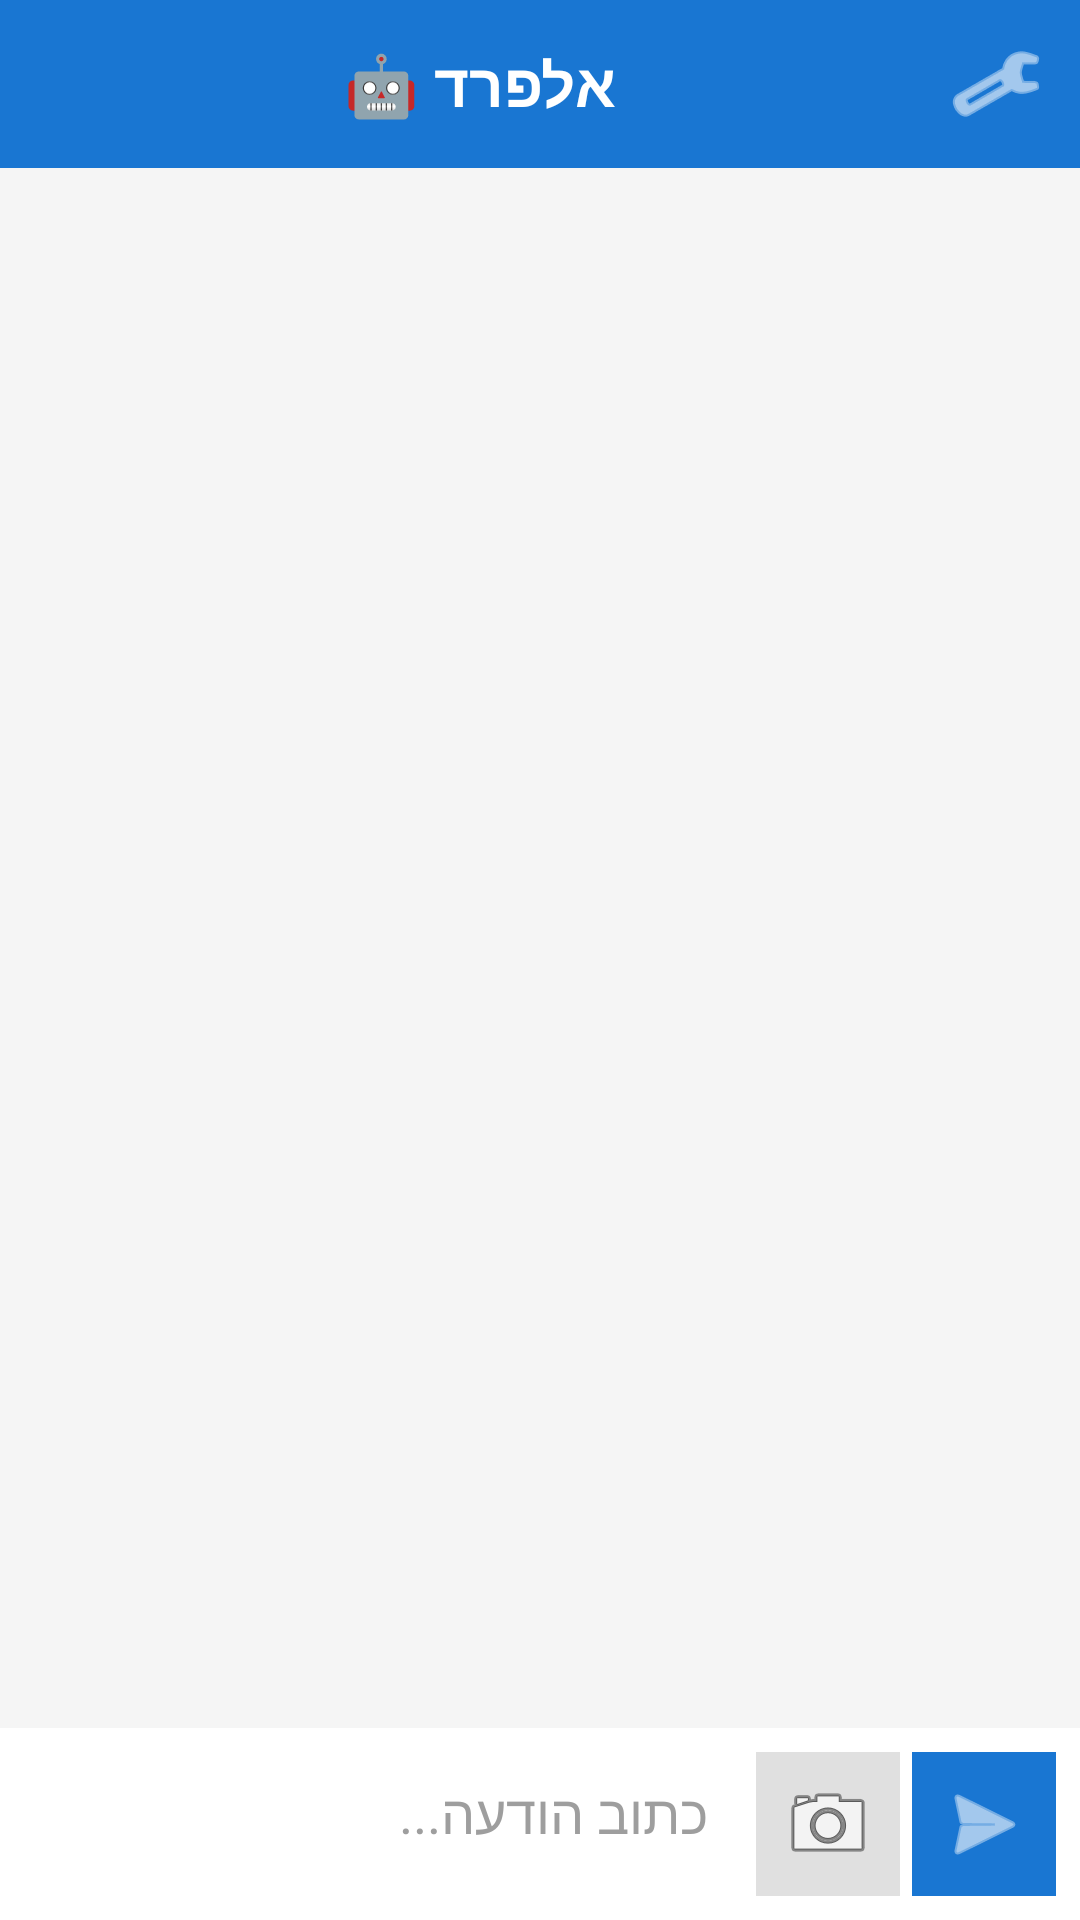

Icons on this 1080 × 1920 Android screen, each with the point to tap as point (x, y):
הגדרות: point (996, 84)
שלח: point (984, 1824)
תמונה: point (828, 1824)
